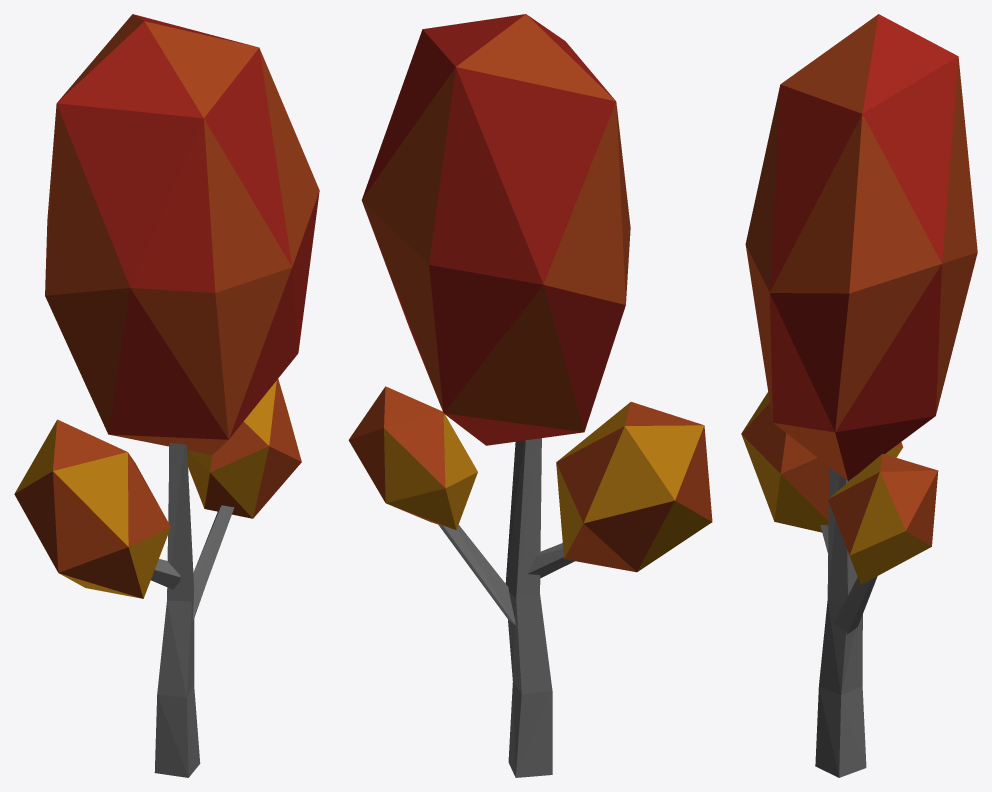
File: Tree1_M2_9_big.fbx
3 views of the same model, side by side, from view 1: azimuth 30°, elevation 25°; view 2: azimuth 150°, elevation 25°; view 3: azimuth 270°, elevation 25° (orthographic). The views are drawn at different scales.
Visible parts, largest first — view 1: Tree1_M2_9_big; view 2: Tree1_M2_9_big; view 3: Tree1_M2_9_big.
Part boxes in pixels (x1=…): Tree1_M2_9_big: x1=14, y1=14, x2=319, y2=777; Tree1_M2_9_big: x1=348, y1=14, x2=712, y2=777; Tree1_M2_9_big: x1=741, y1=14, x2=977, y2=777.
Bounding box in the file's own units: 283 × 670 × 193.
